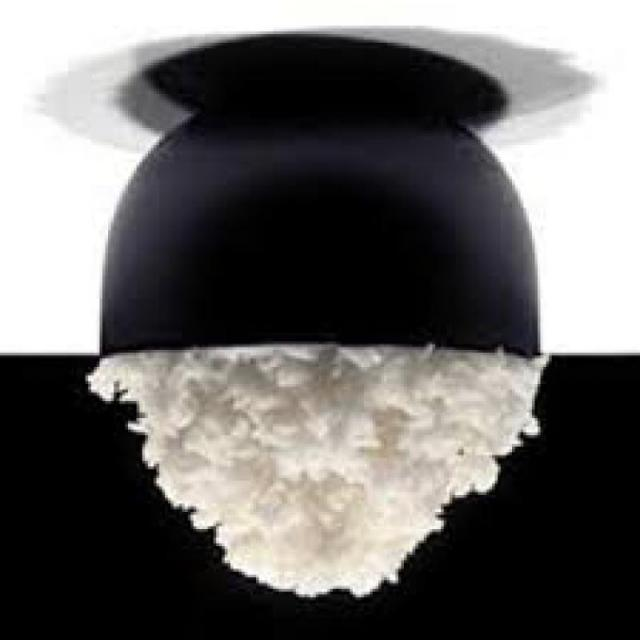nasi_putih: (92, 344, 549, 600)
